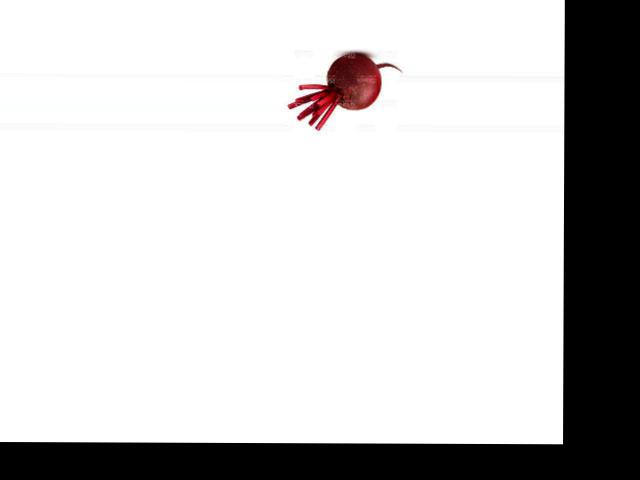beet: (287, 53, 401, 130)
